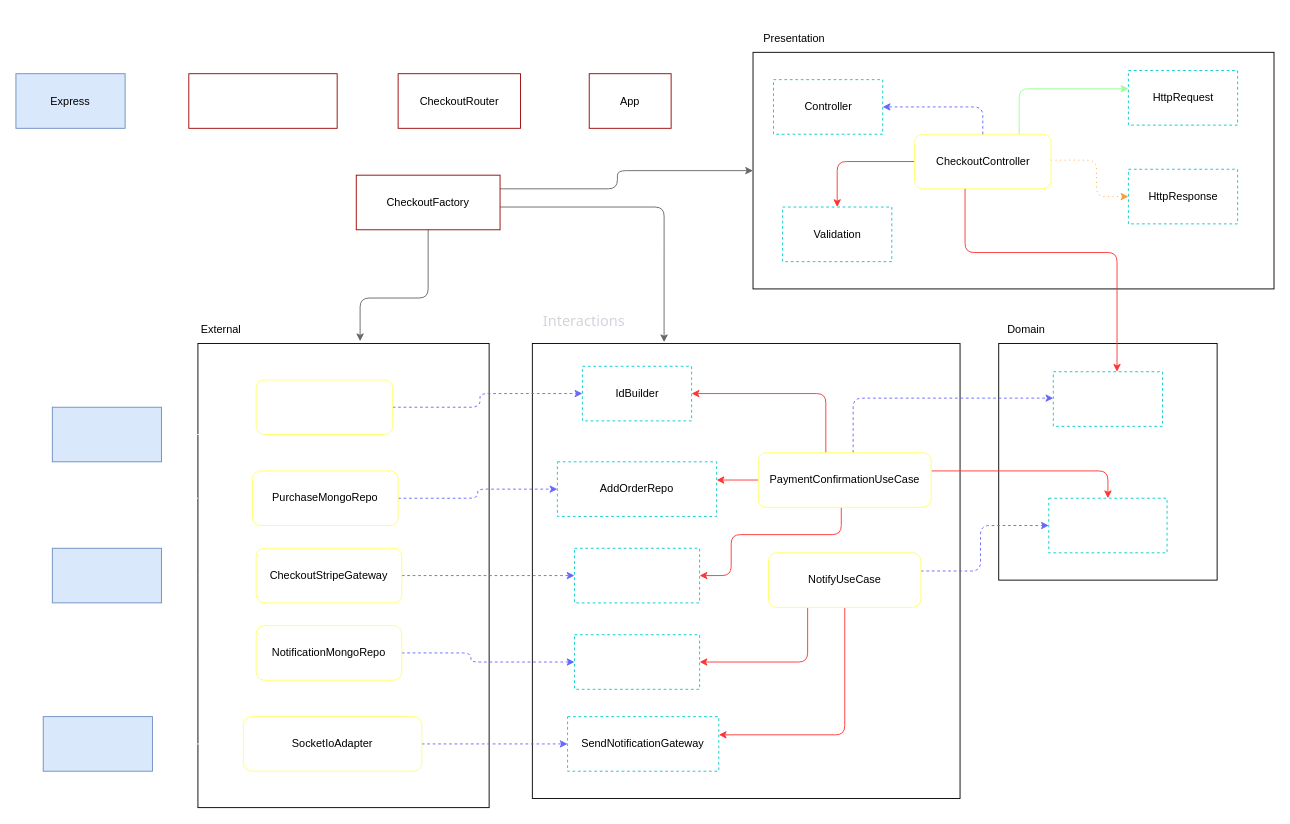
This 1290x824 diagram has some shape labels left out. The centre of each missing label's shape, as x and y in pixels:
"AddNotificationRepo" goes at point (637, 661).
"Checkout" goes at point (1107, 398).
"CheckoutGateway" goes at point (637, 575).
"ExpressRouterAdapter" goes at point (262, 100).
"IdMongo" goes at point (324, 407).
"MongoDb" goes at point (106, 434).
"Notify" goes at point (1107, 525).
"Socket.io" goes at point (97, 743).
"Stripe" goes at point (106, 575).
